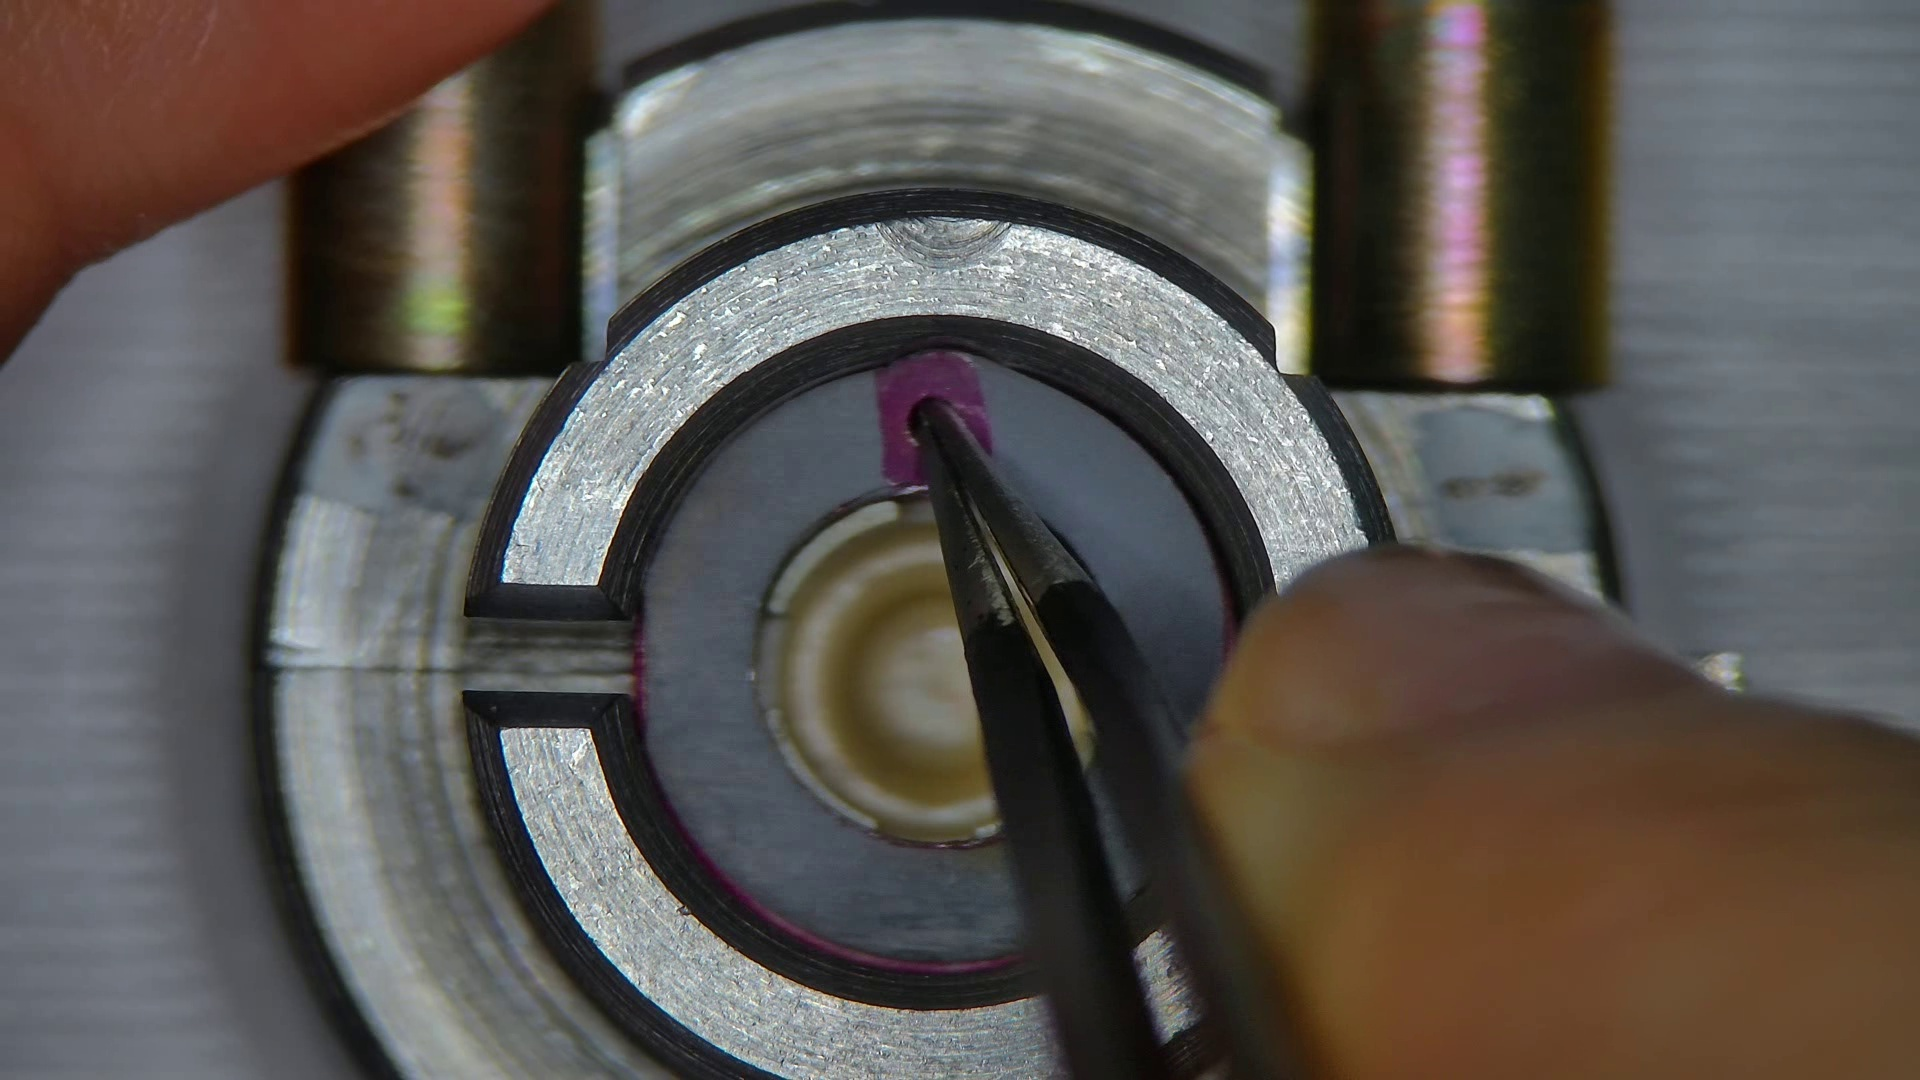YellowOring: (639, 354, 1227, 961)
